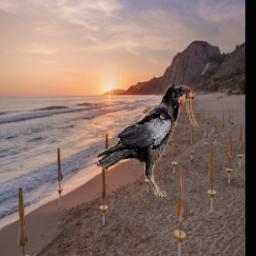Crow: (95, 79, 203, 197)
